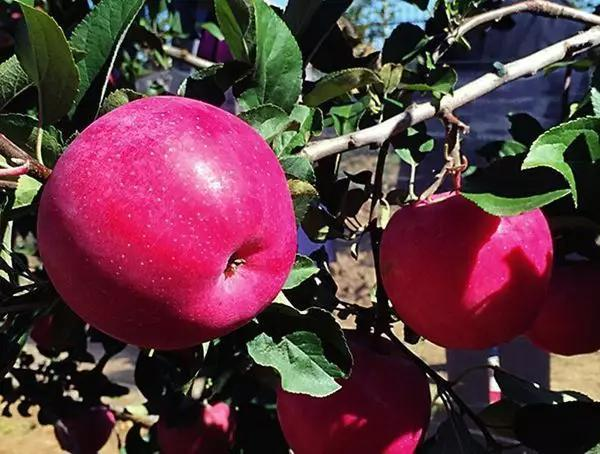apple: (37, 95, 296, 347), (378, 191, 552, 347), (274, 330, 433, 454)
